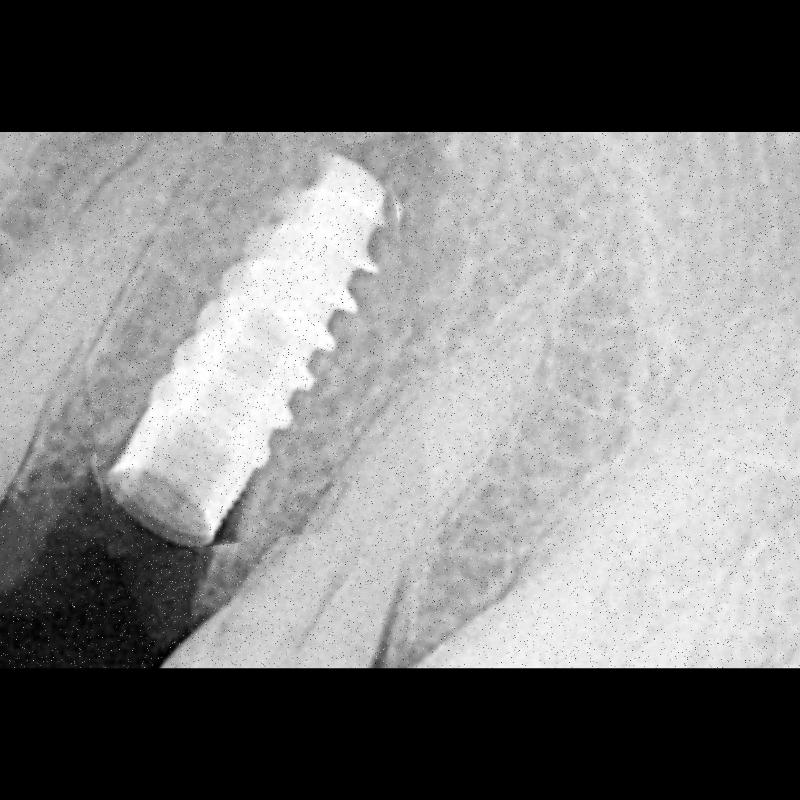NORIS: (73, 149, 423, 550)
